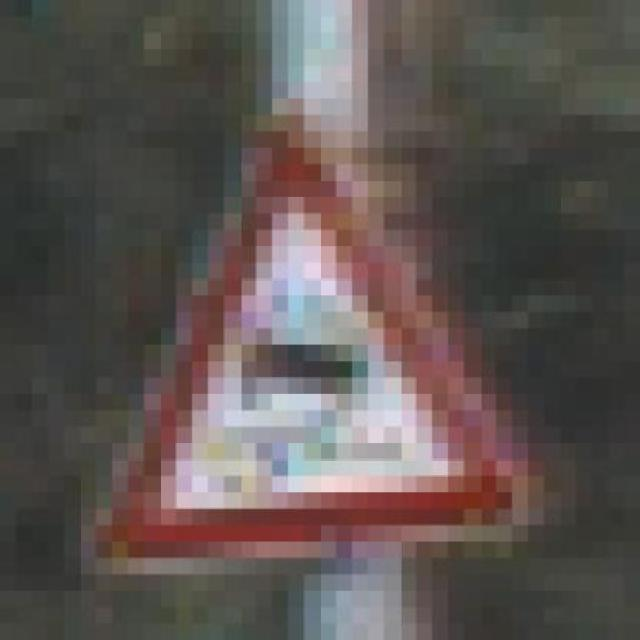Slippery Road Ahead: (80, 66, 545, 574)
